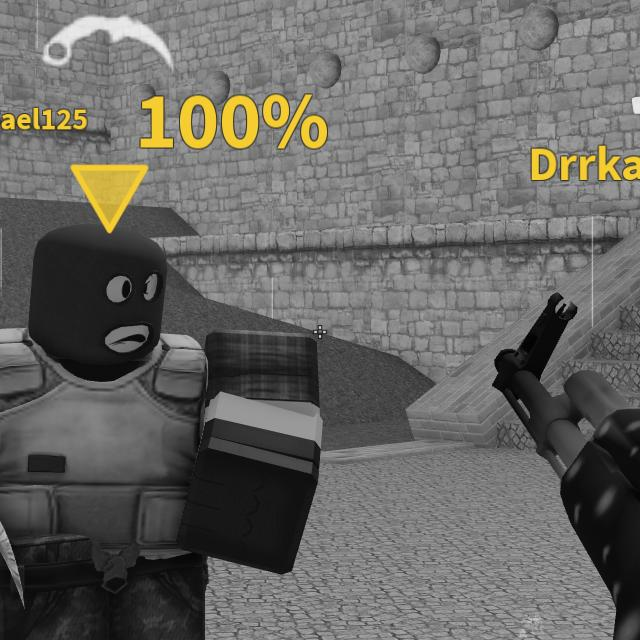Head: (30, 226, 166, 368)
Player: (0, 223, 325, 639)
